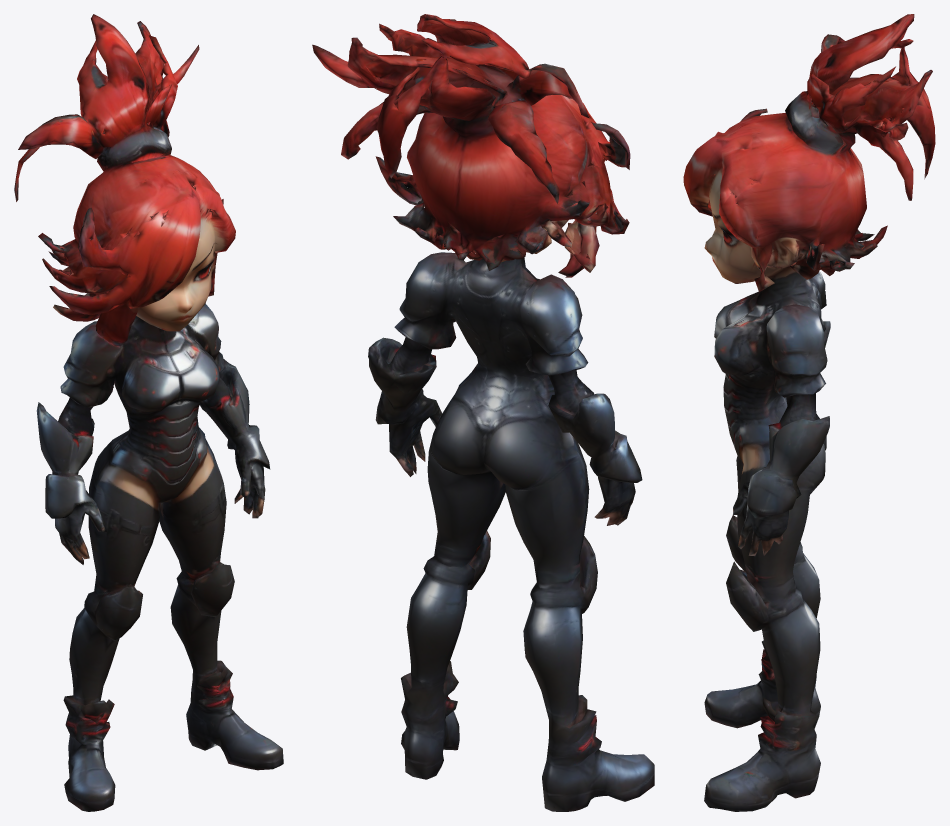
3 views of the same model, side by side, from view 1: azimuth 30°, elevation 25°; view 2: azimuth 150°, elevation 25°; view 3: azimuth 270°, elevation 25° (orthographic). The views are drawn at different scales.
Bounding box in the file's own units: 0.6559 × 2 × 0.6121.
1 material, 1 textured.
